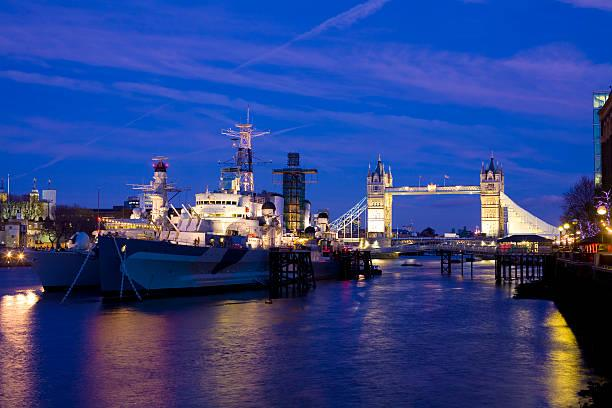MIL_Ship: (95, 119, 333, 296)
